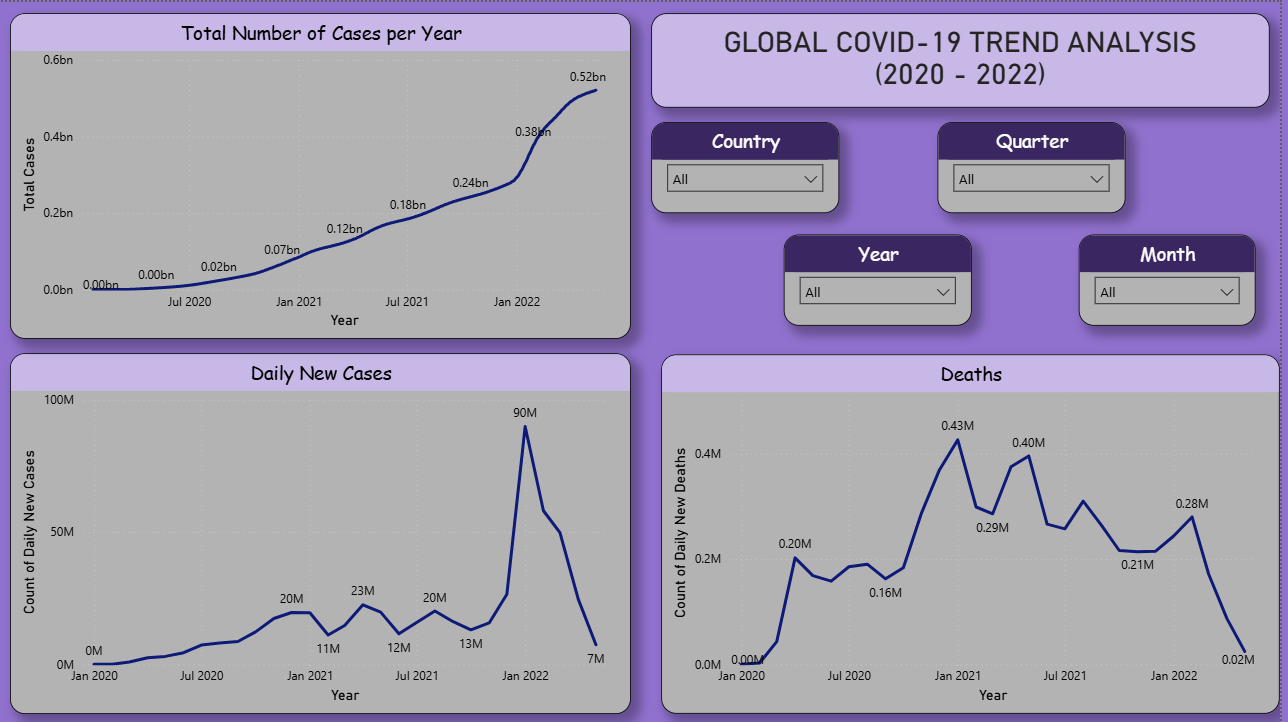

Layout of this report page (visuals, bound fields, positions):
{"tool":"powerbi","page":{"name":"Global Covid-19 Trend Analysis","canvas":[1280,720],"ordinal":1},"visuals":[{"type":"lineChart","title":"Daily New Cases","fields":{"Category":["worldometer_coronavirus_daily_data.date.Variation.Date Hierarchy.Year","worldometer_coronavirus_daily_data.date.Variation.Date Hierarchy.Quarter","worldometer_coronavirus_daily_data.date.Variation.Date Hierarchy.Month","worldometer_coronavirus_daily_data.date.Variation.Date Hierarchy.Day"],"Y":["Sum(worldometer_coronavirus_daily_data.daily_new_cases)"]},"box":[10,350.8,620.7,360.7],"z":0},{"type":"lineChart","title":"Deaths","fields":{"Category":["worldometer_coronavirus_daily_data.date.Variation.Date Hierarchy.Year","worldometer_coronavirus_daily_data.date.Variation.Date Hierarchy.Quarter","worldometer_coronavirus_daily_data.date.Variation.Date Hierarchy.Month","worldometer_coronavirus_daily_data.date.Variation.Date Hierarchy.Day"],"Y":["Sum(worldometer_coronavirus_daily_data.daily_new_deaths)"]},"box":[661.8,352,618.2,359.5],"z":1000},{"type":"lineChart","title":"Total Number of Cases per Year","fields":{"Category":["worldometer_coronavirus_daily_data.date.Variation.Date Hierarchy.Year","worldometer_coronavirus_daily_data.date.Variation.Date Hierarchy.Quarter","worldometer_coronavirus_daily_data.date.Variation.Date Hierarchy.Month","worldometer_coronavirus_daily_data.date.Variation.Date Hierarchy.Day"],"Y":["Sum(worldometer_coronavirus_daily_data.cumulative_total_cases)"]},"box":[10,11.2,620.7,325.9],"z":2000},{"type":"slicer","title":"Month","fields":{"Values":["worldometer_coronavirus_daily_data.date.Variation.Date Hierarchy.Month"]},"box":[1078.5,232.6,176.6,90.8],"z":3000},{"type":"textbox","box":[651.8,11.2,618.2,94.5],"z":4000},{"type":"slicer","title":"Year","fields":{"Values":["worldometer_coronavirus_daily_data.date.Variation.Date Hierarchy.Year"]},"box":[783.7,232.6,187.8,90.8],"z":5000},{"type":"slicer","title":"Quarter","fields":{"Values":["worldometer_coronavirus_daily_data.date.Variation.Date Hierarchy.Quarter"]},"box":[937.9,119.4,187.8,90.8],"z":6000},{"type":"slicer","title":"Country","fields":{"Values":["worldometer_coronavirus_daily_data.country"]},"box":[651.8,119.4,187.8,90.8],"z":7000}]}

Visuals, with their boxes in screenshot pixels (x1, y1, x2, y2), scaled from the page's 1280x720 canvas onto the 1288x722 screenshot:
"Daily New Cases" lineChart: BBox(10, 352, 635, 713)
"Deaths" lineChart: BBox(666, 353, 1287, 713)
"Total Number of Cases per Year" lineChart: BBox(10, 11, 635, 338)
"Month" slicer: BBox(1085, 233, 1263, 324)
textbox: BBox(656, 11, 1278, 106)
"Year" slicer: BBox(789, 233, 978, 324)
"Quarter" slicer: BBox(944, 120, 1133, 211)
"Country" slicer: BBox(656, 120, 845, 211)
